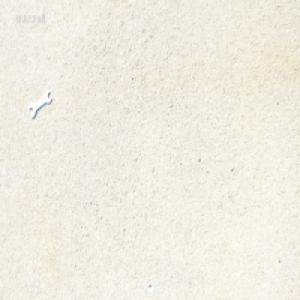Wrench: (29, 88, 52, 119)
